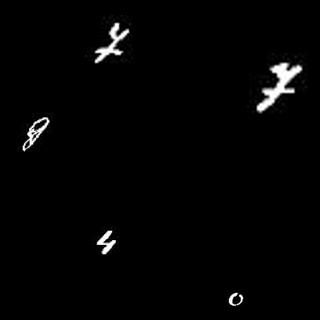four: (95, 221, 116, 257)
seven: (256, 60, 304, 114), (94, 22, 131, 63)
zero: (224, 291, 247, 308)
